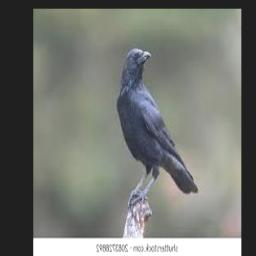Crow: (116, 47, 199, 198)
